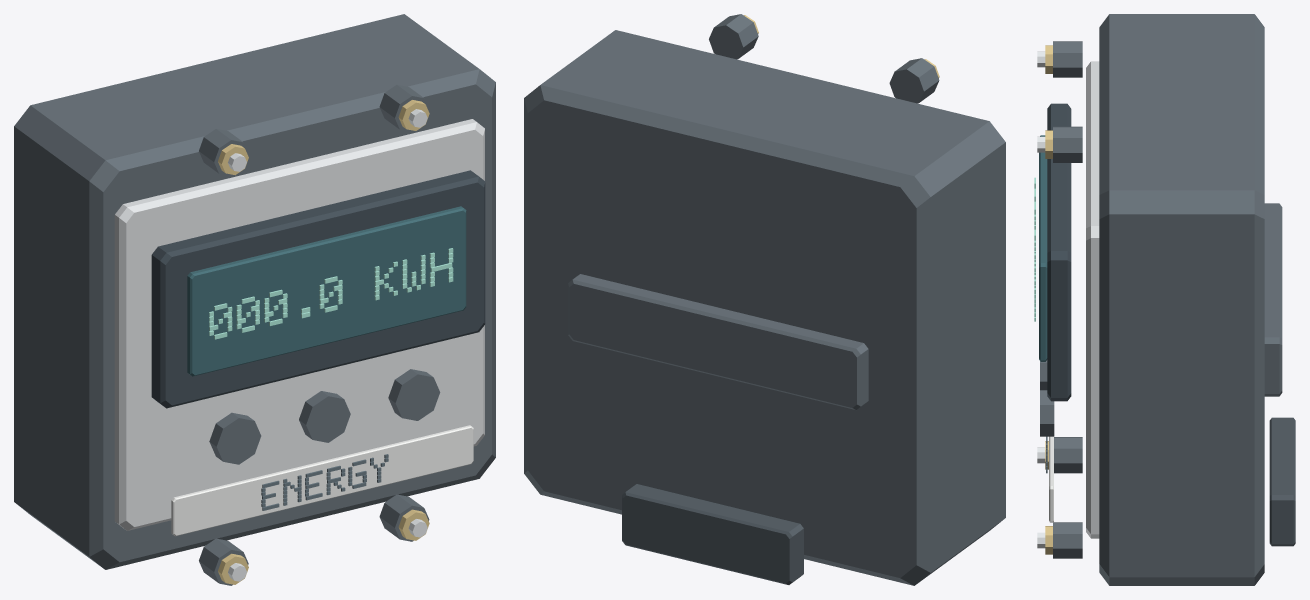
Rendered from digitalCounter.glb.
3 views of the same model, side by side, from view 1: azimuth 30°, elevation 25°; view 2: azimuth 150°, elevation 25°; view 3: azimuth 270°, elevation 25° (orthographic). The views are drawn at different scales.
Visible parts, largest first — view 1: digitalCounter-board; view 2: digitalCounter-board; view 3: digitalCounter-board.
Part boxes in pixels (<box>): digitalCounter-board: <box>14,14,495,585</box>; digitalCounter-board: <box>524,14,1005,585</box>; digitalCounter-board: <box>1034,14,1295,585</box>.
Size of the model in its own units: 2.25 by 2.36 by 1.3.
